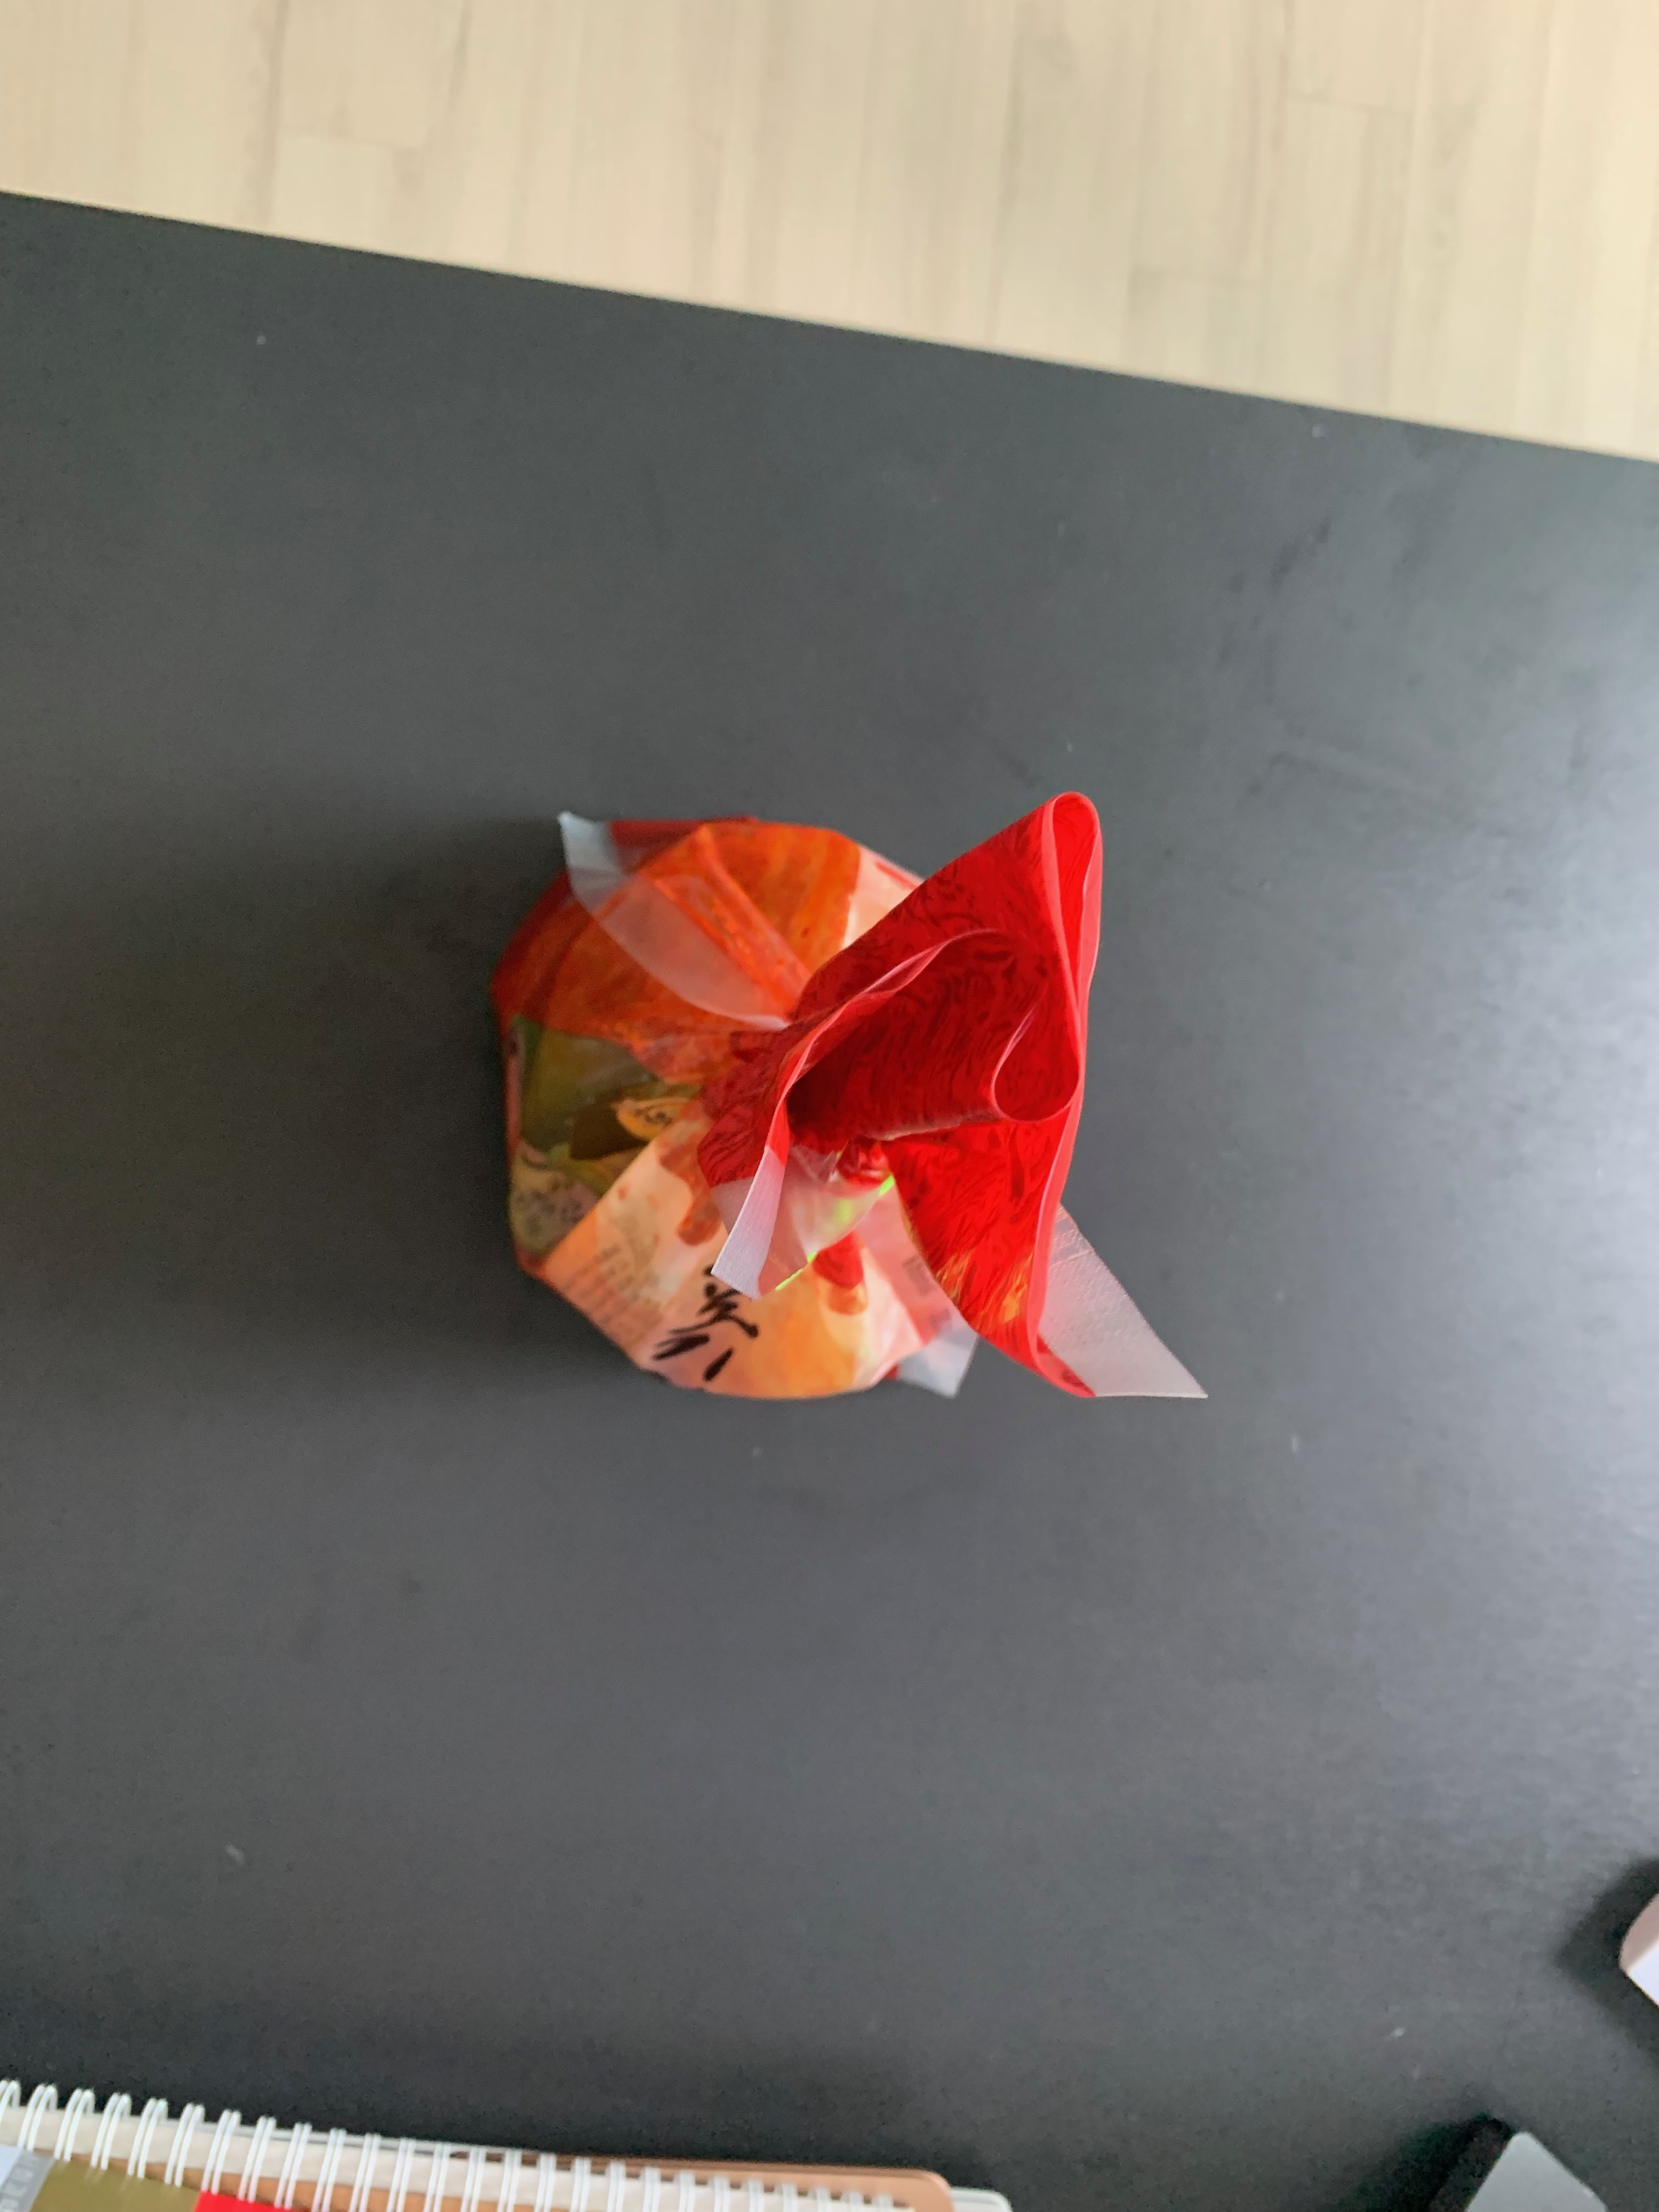kimchi: (498, 787, 1107, 1402)
